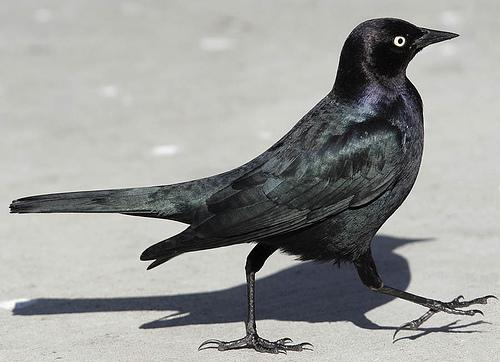009.Brewer_Blackbird: (9, 17, 495, 353)
